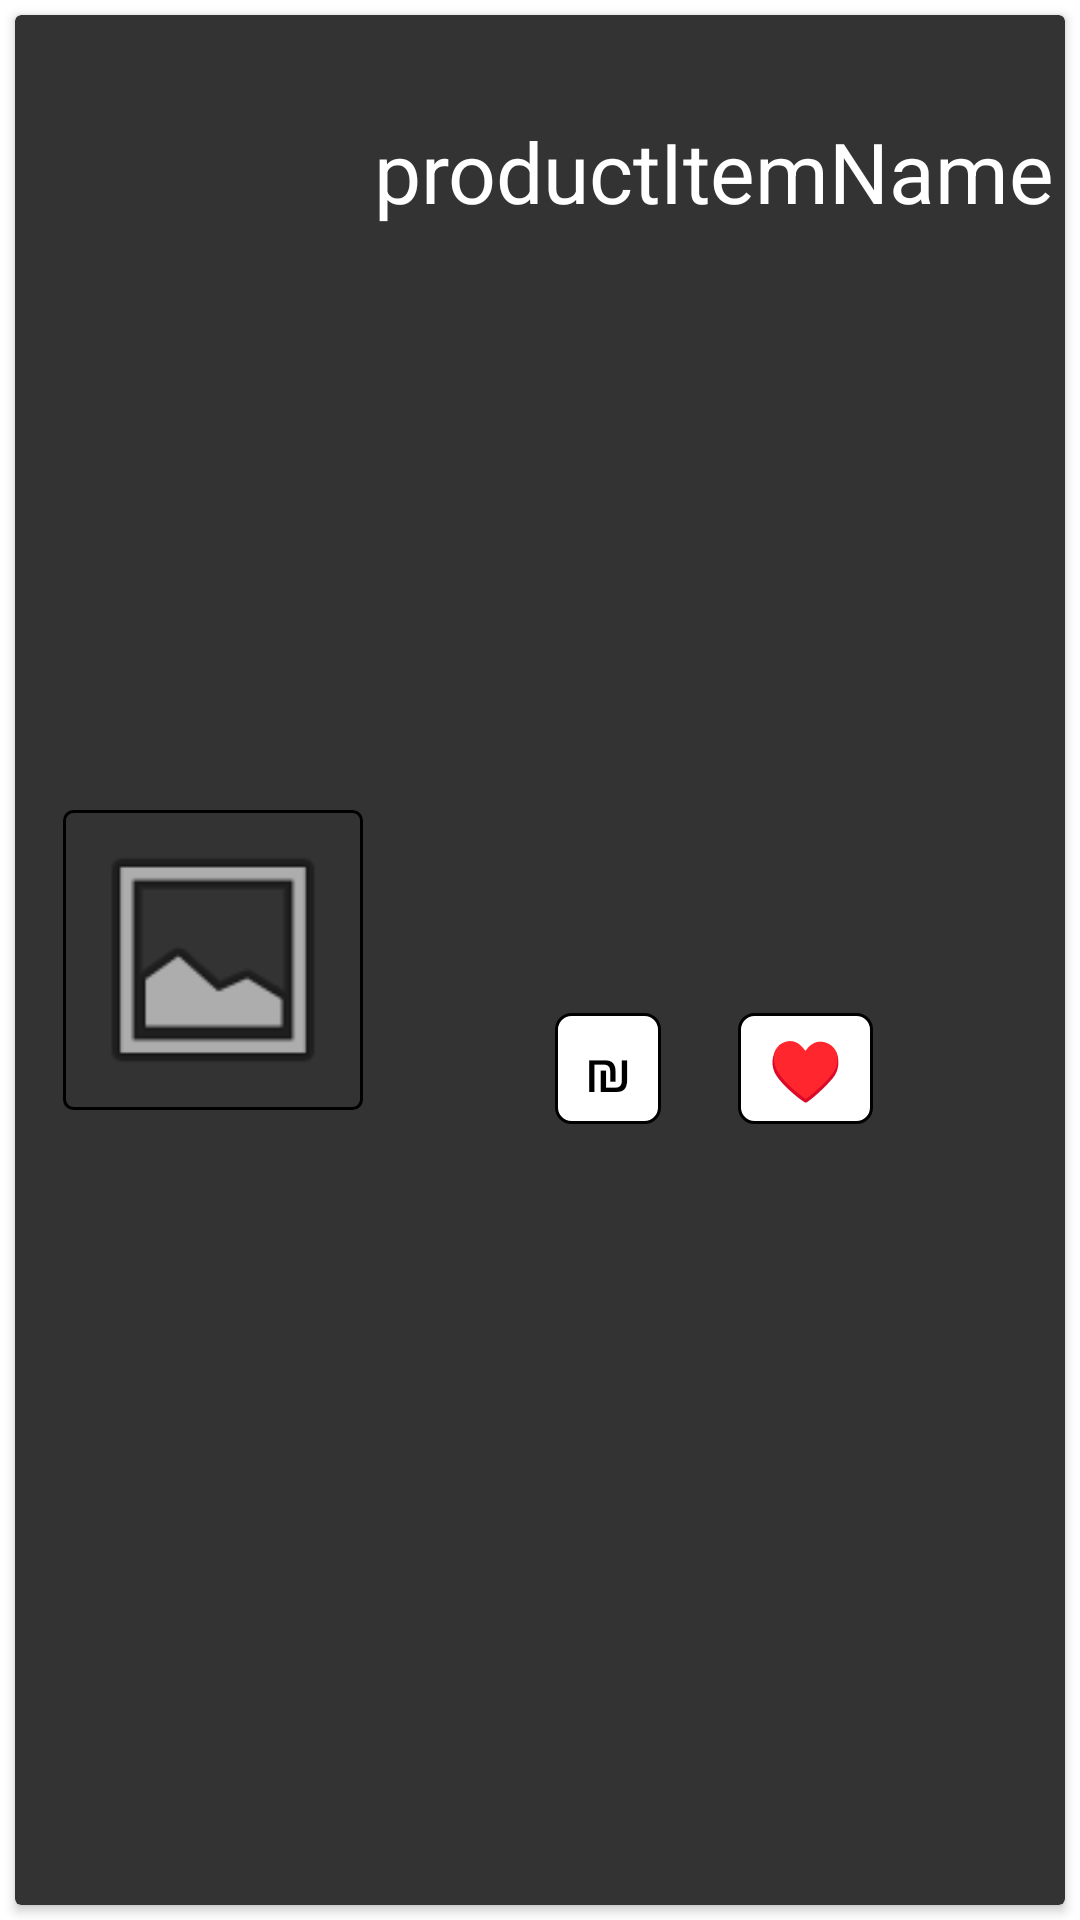

Screen size 1080 × 1920. Icon name, then its box in pixels as (x1, y1, x2, y2):
gallery: (63, 810, 363, 1110)
